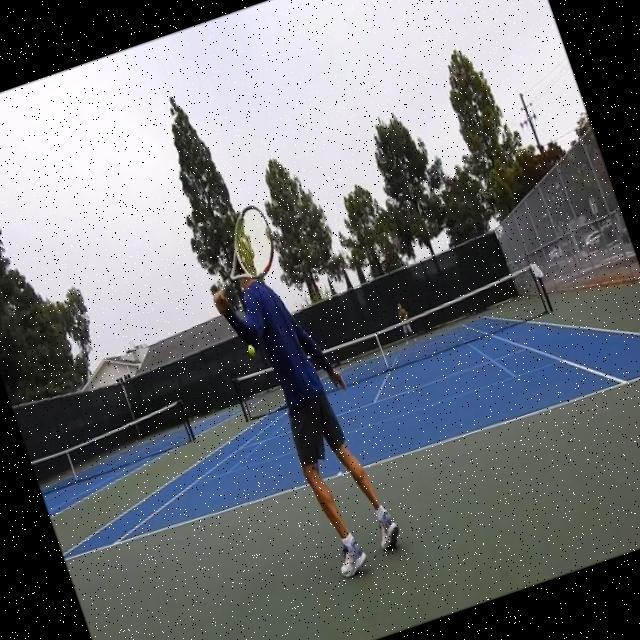court: (33, 263, 640, 575)
net: (225, 258, 557, 422)
player: (187, 193, 410, 591)
